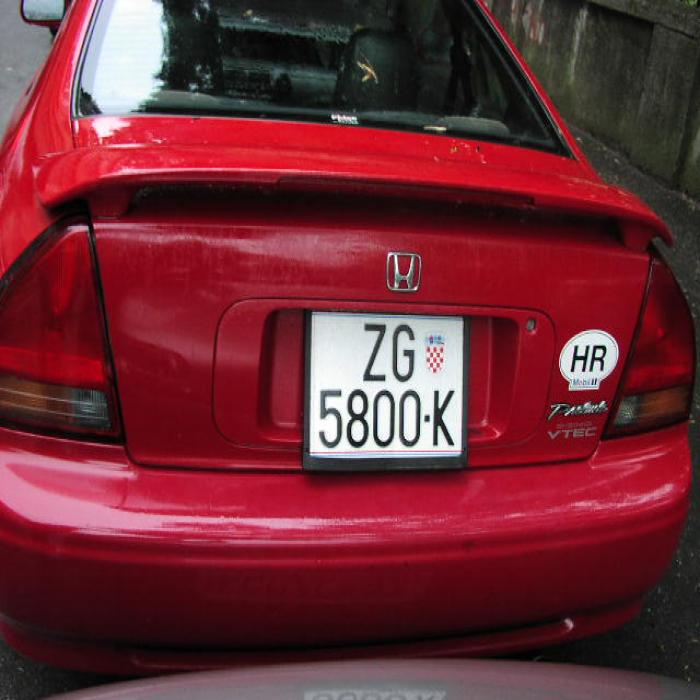number_plate: (310, 309, 459, 451)
